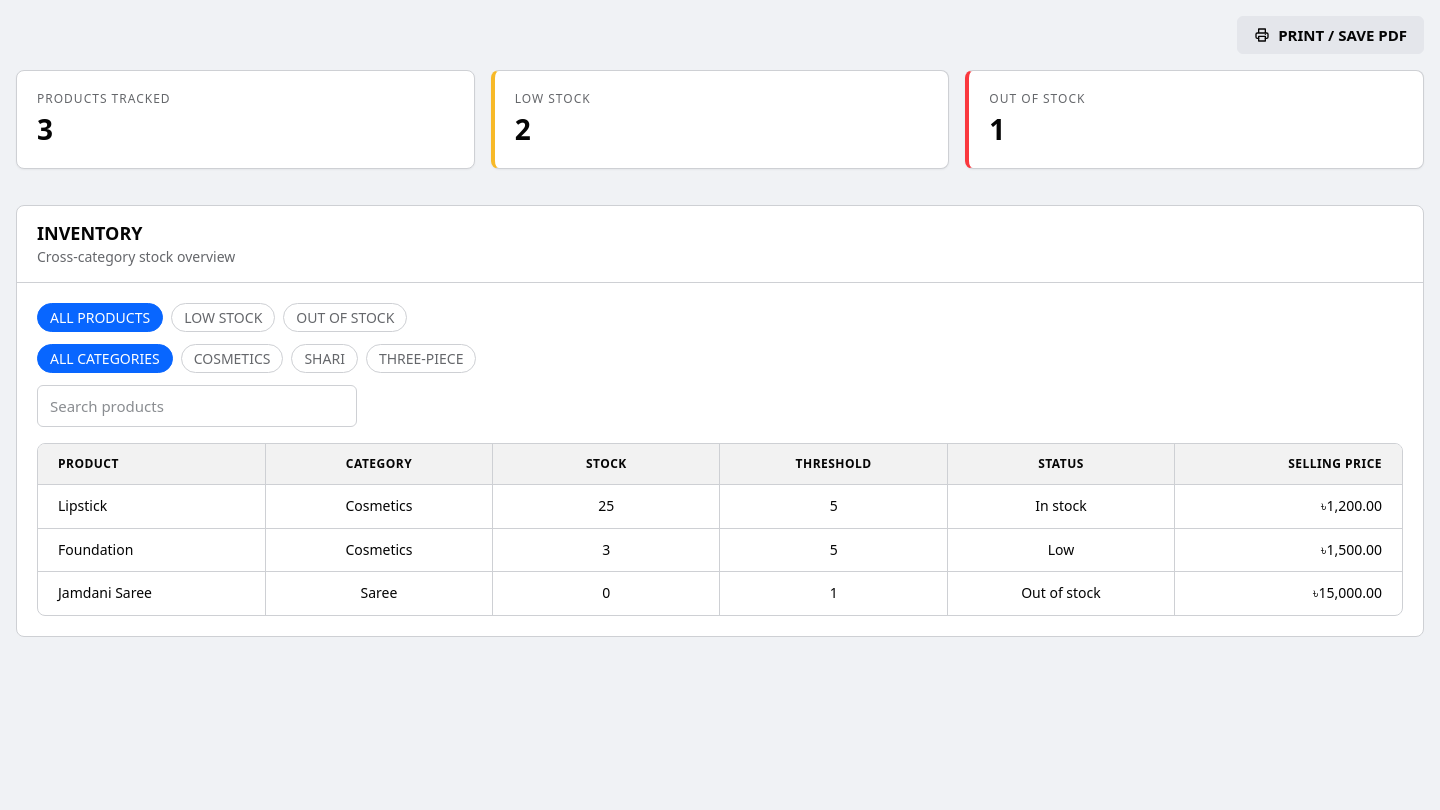
Test: StockPage › filters to out-of-stock when the chip is clicked
The image size is (1440, 810).
Expected: the text "Lipstick" is shown, [58,496,107,515]
What coordinates should you click on to do the following:
click the button "Out of stock"
I would click on:
 (345, 317)
Its box is [283,303,407,332].
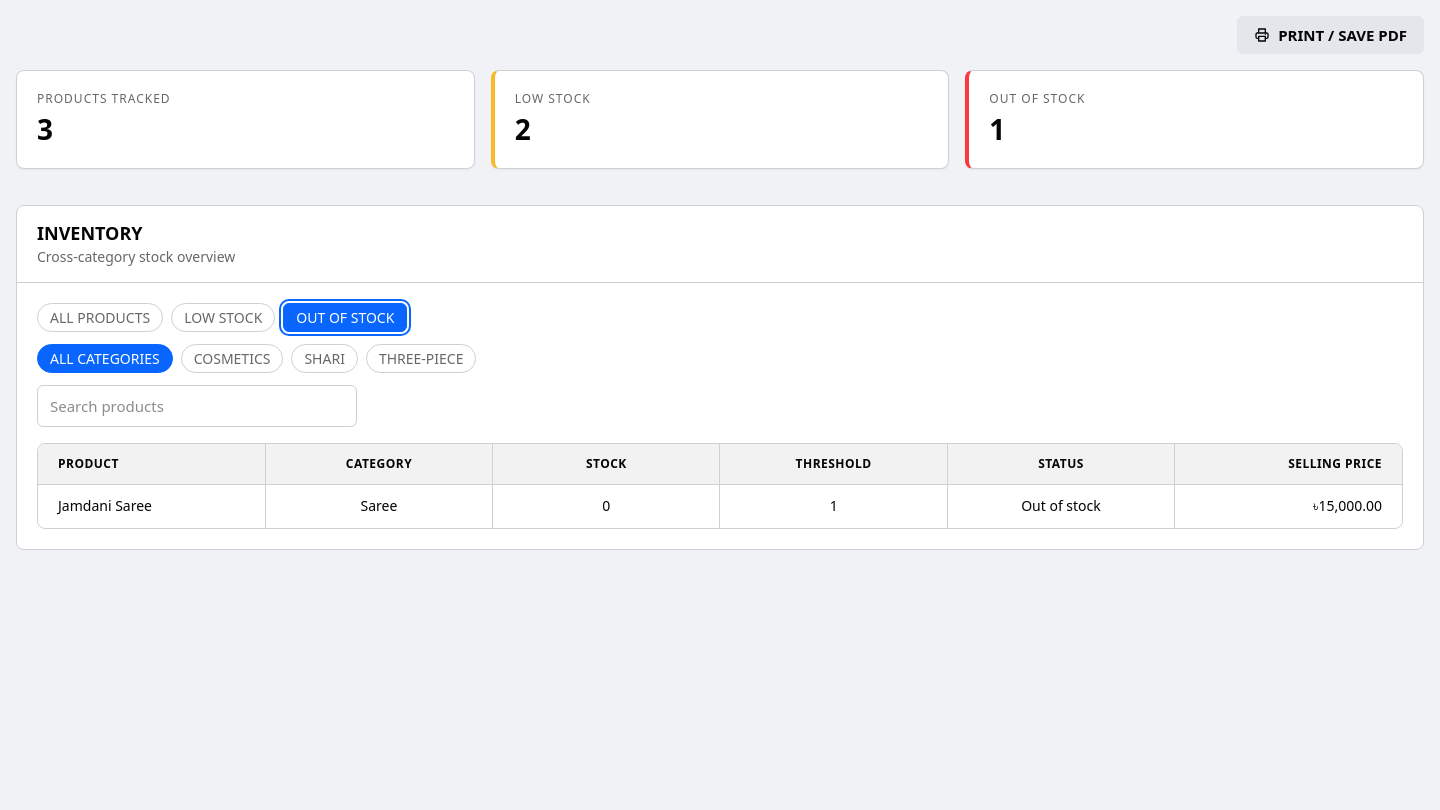
Expected: the text "Jamdani Saree" is shown, [58,496,152,515]
Expected: the text "Lipstick" is gone
Expected: the text "Foundation" is gone
